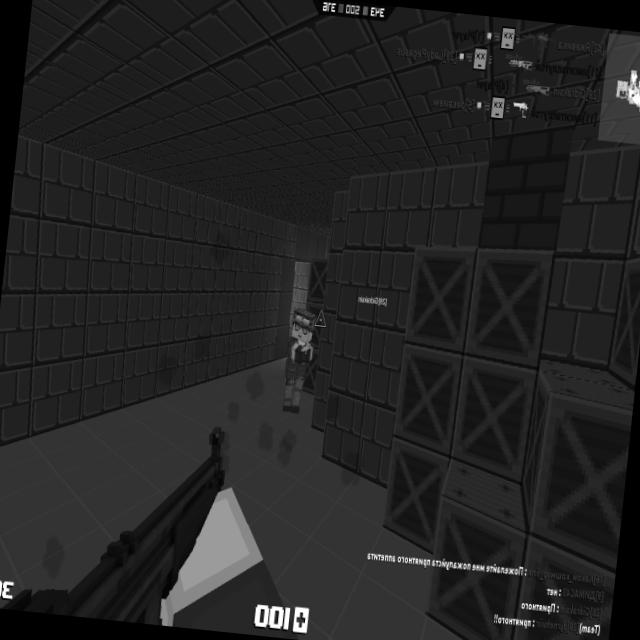enemy: (280, 306, 318, 415)
